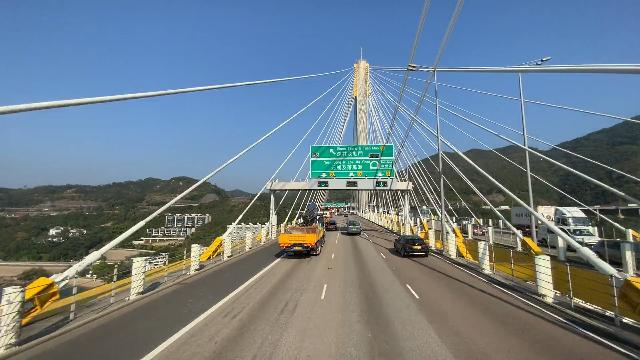car: (393, 233, 432, 261), (326, 219, 338, 232)
truck: (281, 202, 327, 258), (510, 207, 540, 240)
van: (538, 225, 596, 251), (592, 239, 640, 267), (458, 219, 486, 237), (342, 217, 363, 237), (330, 212, 333, 218)
